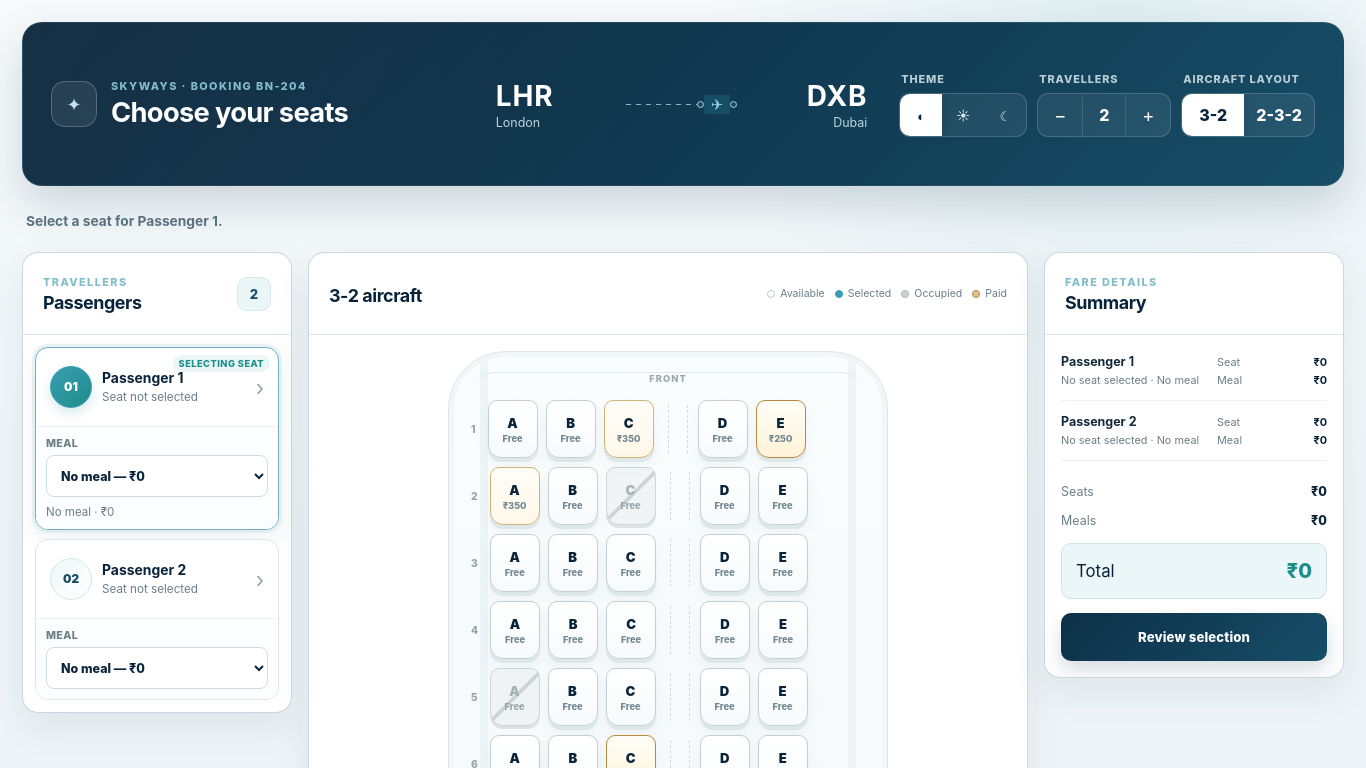
Test case: App › requires confirmation before releasing incompatible layout assignments
The width and height of the screenshot is (1366, 768).
Later steps or results of the test are not shown.
Click the button named "Seat 1C". click: (628, 429)
box: left=604, top=400, right=654, bottom=458
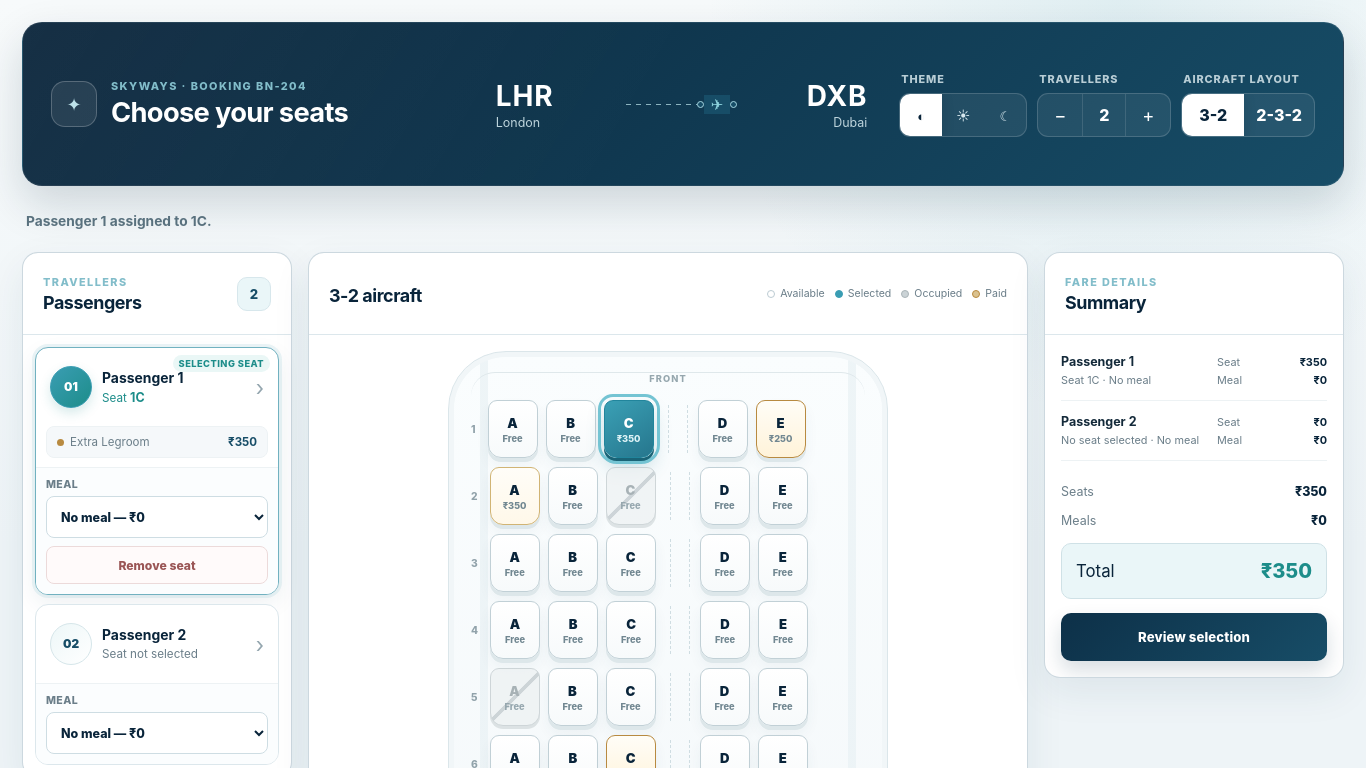
Click the button "2-3-2". click: (1279, 114)
box: left=1244, top=94, right=1314, bottom=136
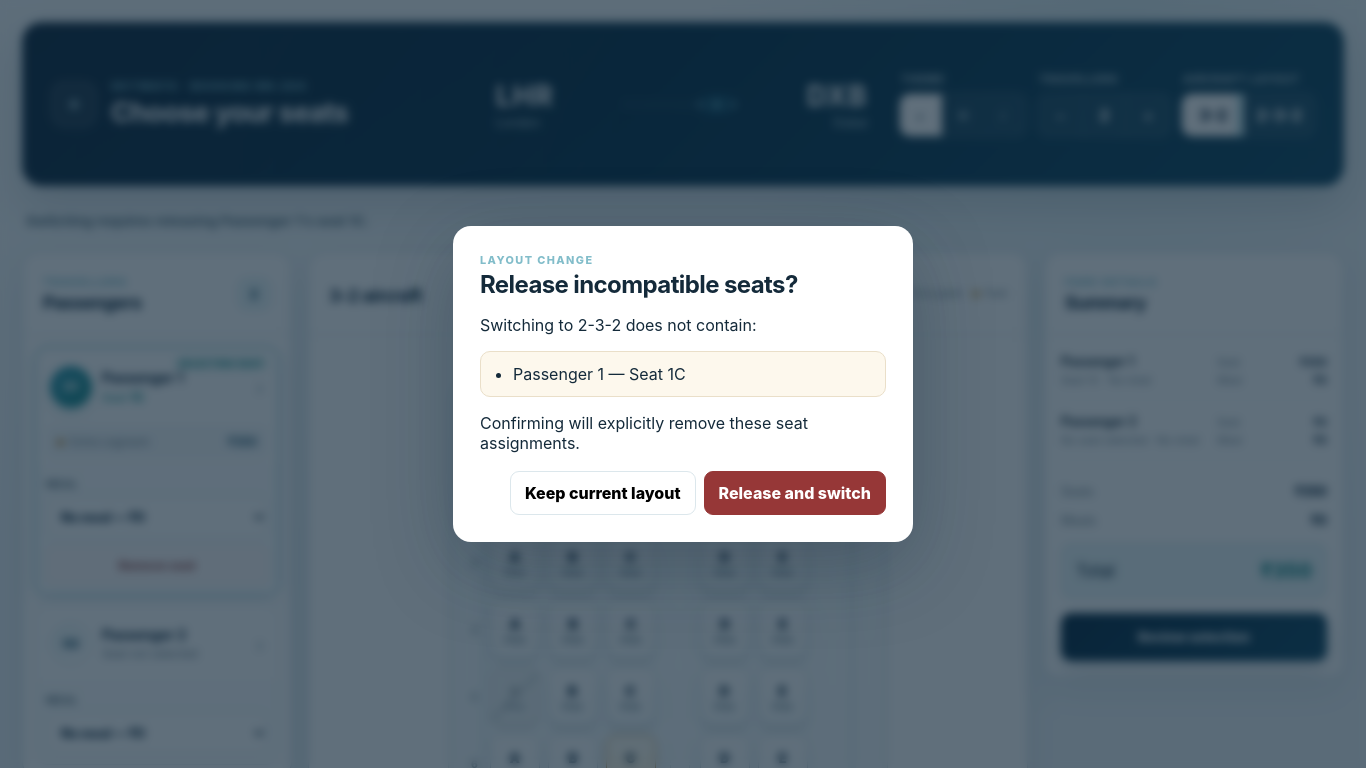
Expected: the heading "Release incompatible seats?" is shown, left=480, top=270, right=798, bottom=299
Expected: the list item "Passenger 1 — Seat 1C" is shown, left=513, top=364, right=686, bottom=384
